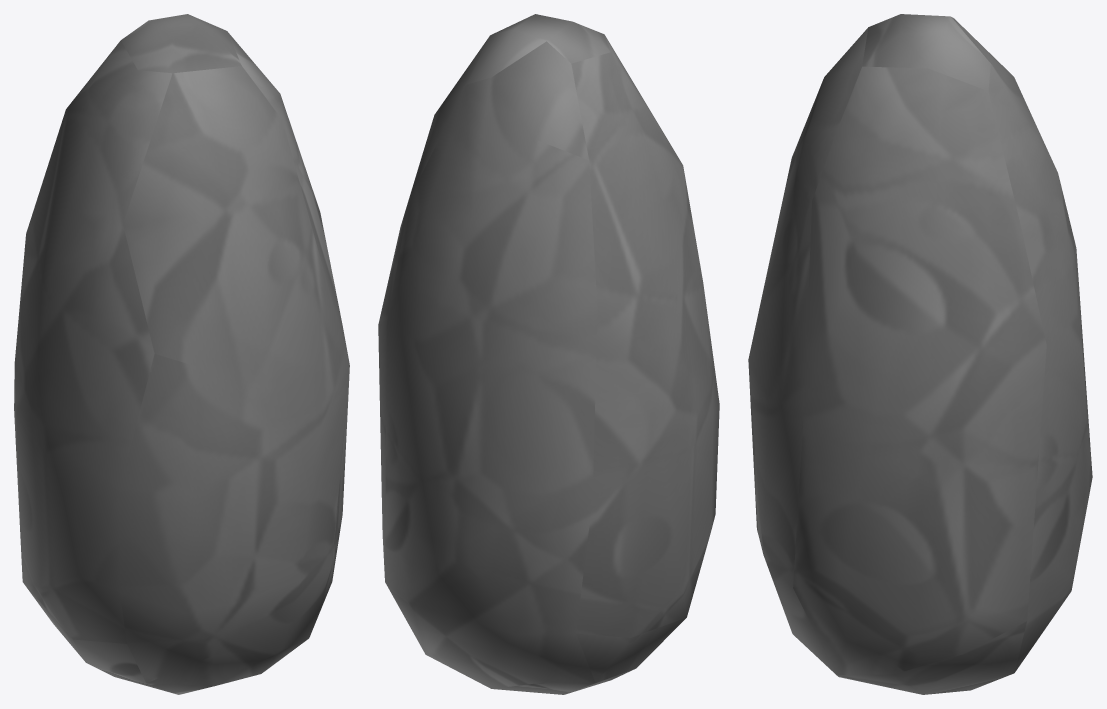
The model's file is m_EggBlue_LOD2.fbx.
3 renders of one model, left to right at view 1: azimuth 30°, elevation 25°; view 2: azimuth 150°, elevation 25°; view 3: azimuth 270°, elevation 25°, orthographic.
Visible parts, largest first — view 1: EggBlue_LOD2; view 2: EggBlue_LOD2; view 3: EggBlue_LOD2.
Boxes of the visible parts, x1,y1,x2,y2 form: EggBlue_LOD2: [14, 14, 349, 694]; EggBlue_LOD2: [378, 14, 719, 694]; EggBlue_LOD2: [748, 14, 1092, 694].
Bounding box in the file's own units: 3753 × 7980 × 3823.
